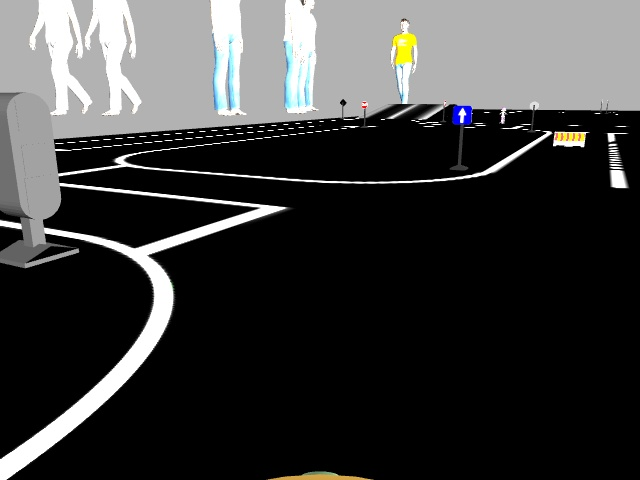ClosedRoadStand: (552, 133, 583, 145)
OneWay: (451, 108, 470, 124)
